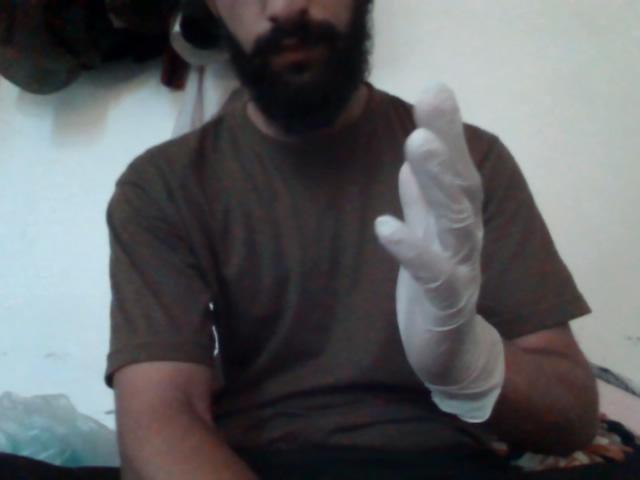gloves: (361, 97, 578, 449)
